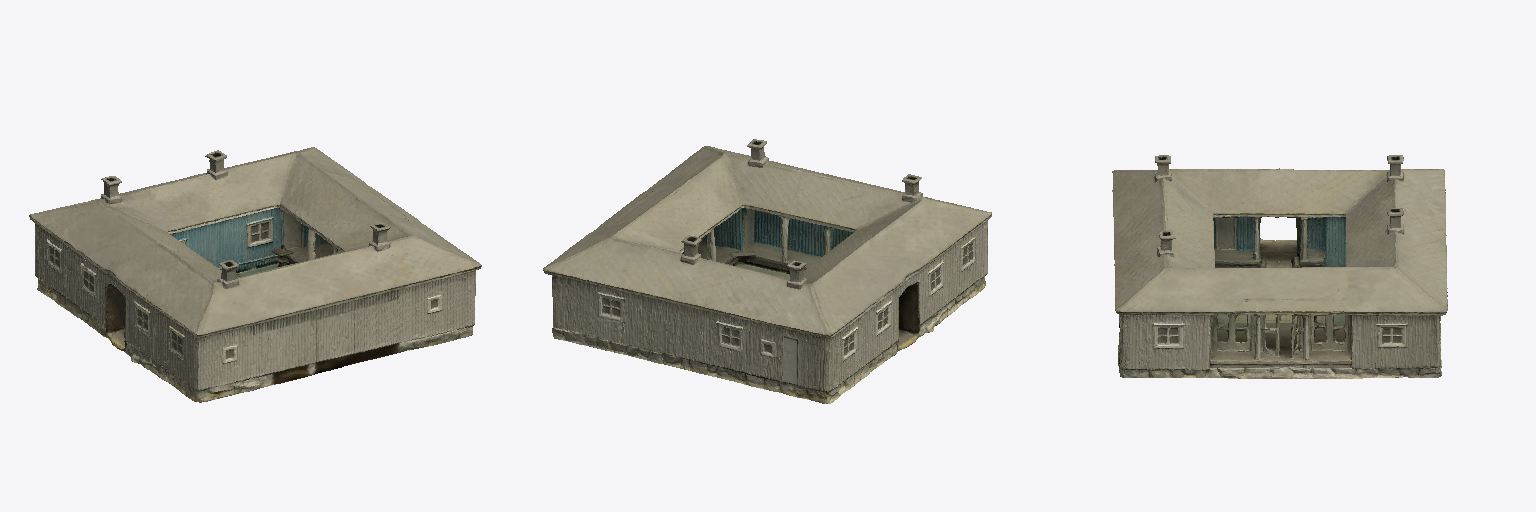
3 views of the same model, side by side, from view 1: azimuth 30°, elevation 25°; view 2: azimuth 150°, elevation 25°; view 3: azimuth 270°, elevation 25° (orthographic).
Parts seen in each view (by area): view 1: object_1; view 2: object_1; view 3: object_1.
Part boxes in pixels (left/top/right/bottom): object_1: left=29, top=147, right=481, bottom=402; object_1: left=543, top=139, right=991, bottom=403; object_1: left=1112, top=155, right=1447, bottom=378.
Bounding box in the file's own units: 17.13 × 6.34 × 17.15.
Materials: 1 (1 with a texture image).